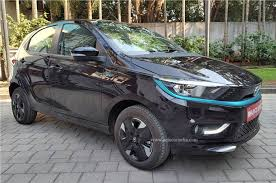Tiago: (8, 17, 264, 168)
